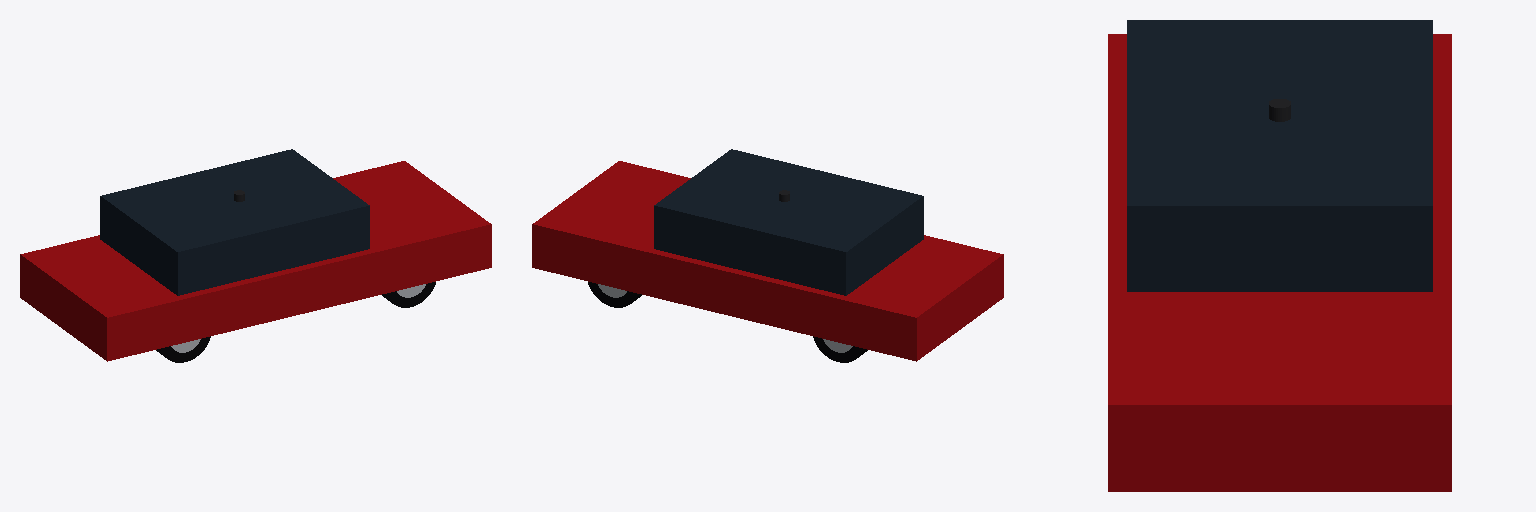
The robot description file, URDF, robot "sedan":
<?xml version="1.0"?>
<!--
  The sample sedan (domains/vehicle_dynamics.md, robot-classes.md): a generic 1.5 t rear-wheel
  drive saloon, 4.6 m long, wheelbase 2.7 m, track 1.56 m, 205/55 R16 tyres. Primitives only.
  The wheels carry no collision shapes: vehicle dynamics finds the ground under them by rays and
  models suspension and tyres itself (sedan.usda adds VehicleAPI_1 and WheelAPI_1). base_link's
  origin is at the wheel centres' height, between the axles. Values are illustrative, not a
  real product.
-->
<robot name="sedan">
  <material name="paint"><color rgba="0.62 0.07 0.09 1"/></material>
  <material name="glass"><color rgba="0.12 0.16 0.2 1"/></material>
  <material name="tyre"><color rgba="0.06 0.06 0.07 1"/></material>
  <material name="rim"><color rgba="0.7 0.71 0.73 1"/></material>
  <material name="sensor"><color rgba="0.15 0.15 0.16 1"/></material>

  <link name="base_link">
    <inertial>
      <origin xyz="0.1 0 0.1"/>
      <mass value="1400"/>
      <inertia ixx="607" iyy="2591" izz="2740" ixy="0" ixz="0" iyz="0"/>
    </inertial>
    <visual>
      <origin xyz="0 0 0.17"/>
      <geometry><box size="4.6 1.8 0.5"/></geometry>
      <material name="paint"/>
    </visual>
    <visual>
      <origin xyz="-0.25 0 0.67"/>
      <geometry><box size="2.3 1.6 0.5"/></geometry>
      <material name="glass"/>
    </visual>
    <collision>
      <origin xyz="0 0 0.3"/>
      <geometry><box size="4.6 1.8 0.76"/></geometry>
    </collision>
  </link>

  <link name="front_left_knuckle">
    <inertial><mass value="5"/><inertia ixx="0.05" iyy="0.05" izz="0.05" ixy="0" ixz="0" iyz="0"/></inertial>
  </link>
  <joint name="front_left_steer" type="revolute">
    <parent link="base_link"/><child link="front_left_knuckle"/>
    <origin xyz="1.35 0.78 0"/><axis xyz="0 0 1"/>
    <limit lower="-0.65" upper="0.65" effort="2000" velocity="3"/>
  </joint>
  <link name="front_left_wheel">
    <inertial><mass value="15"/><inertia ixx="0.4" iyy="0.75" izz="0.4" ixy="0" ixz="0" iyz="0"/></inertial>
    <visual>
      <origin rpy="1.5707963 0 0"/>
      <geometry><cylinder radius="0.316" length="0.205"/></geometry>
      <material name="tyre"/>
    </visual>
    <visual>
      <origin xyz="0 0.105 0" rpy="1.5707963 0 0"/>
      <geometry><cylinder radius="0.2" length="0.01"/></geometry>
      <material name="rim"/>
    </visual>
  </link>
  <joint name="front_left_spin" type="continuous">
    <parent link="front_left_knuckle"/><child link="front_left_wheel"/>
    <origin xyz="0 0 0"/><axis xyz="0 1 0"/>
  </joint>
  <link name="front_right_knuckle">
    <inertial><mass value="5"/><inertia ixx="0.05" iyy="0.05" izz="0.05" ixy="0" ixz="0" iyz="0"/></inertial>
  </link>
  <joint name="front_right_steer" type="revolute">
    <parent link="base_link"/><child link="front_right_knuckle"/>
    <origin xyz="1.35 -0.78 0"/><axis xyz="0 0 1"/>
    <limit lower="-0.65" upper="0.65" effort="2000" velocity="3"/>
  </joint>
  <link name="front_right_wheel">
    <inertial><mass value="15"/><inertia ixx="0.4" iyy="0.75" izz="0.4" ixy="0" ixz="0" iyz="0"/></inertial>
    <visual>
      <origin rpy="1.5707963 0 0"/>
      <geometry><cylinder radius="0.316" length="0.205"/></geometry>
      <material name="tyre"/>
    </visual>
    <visual>
      <origin xyz="0 -0.105 0" rpy="1.5707963 0 0"/>
      <geometry><cylinder radius="0.2" length="0.01"/></geometry>
      <material name="rim"/>
    </visual>
  </link>
  <joint name="front_right_spin" type="continuous">
    <parent link="front_right_knuckle"/><child link="front_right_wheel"/>
    <origin xyz="0 0 0"/><axis xyz="0 1 0"/>
  </joint>
  <link name="rear_left_wheel">
    <inertial><mass value="15"/><inertia ixx="0.4" iyy="0.75" izz="0.4" ixy="0" ixz="0" iyz="0"/></inertial>
    <visual>
      <origin rpy="1.5707963 0 0"/>
      <geometry><cylinder radius="0.316" length="0.205"/></geometry>
      <material name="tyre"/>
    </visual>
    <visual>
      <origin xyz="0 0.105 0" rpy="1.5707963 0 0"/>
      <geometry><cylinder radius="0.2" length="0.01"/></geometry>
      <material name="rim"/>
    </visual>
  </link>
  <joint name="rear_left_spin" type="continuous">
    <parent link="base_link"/><child link="rear_left_wheel"/>
    <origin xyz="-1.35 0.78 0"/><axis xyz="0 1 0"/>
  </joint>
  <link name="rear_right_wheel">
    <inertial><mass value="15"/><inertia ixx="0.4" iyy="0.75" izz="0.4" ixy="0" ixz="0" iyz="0"/></inertial>
    <visual>
      <origin rpy="1.5707963 0 0"/>
      <geometry><cylinder radius="0.316" length="0.205"/></geometry>
      <material name="tyre"/>
    </visual>
    <visual>
      <origin xyz="0 -0.105 0" rpy="1.5707963 0 0"/>
      <geometry><cylinder radius="0.2" length="0.01"/></geometry>
      <material name="rim"/>
    </visual>
  </link>
  <joint name="rear_right_spin" type="continuous">
    <parent link="base_link"/><child link="rear_right_wheel"/>
    <origin xyz="-1.35 -0.78 0"/><axis xyz="0 1 0"/>
  </joint>

  <!-- Sensors: a 32-ring 3D lidar on the roof, a forward camera behind the windscreen, an IMU. -->
  <link name="lidar_link">
    <inertial><mass value="1"/><inertia ixx="0.01" iyy="0.01" izz="0.01" ixy="0" ixz="0" iyz="0"/></inertial>
    <visual>
      <geometry><cylinder radius="0.06" length="0.08"/></geometry>
      <material name="sensor"/>
    </visual>
  </link>
  <joint name="lidar_mount" type="fixed">
    <parent link="base_link"/><child link="lidar_link"/>
    <origin xyz="-0.2 0 0.96"/>
  </joint>
  <link name="camera_link">
    <inertial><mass value="0.2"/><inertia ixx="0.001" iyy="0.001" izz="0.001" ixy="0" ixz="0" iyz="0"/></inertial>
  </link>
  <joint name="camera_mount" type="fixed">
    <parent link="base_link"/><child link="camera_link"/>
    <origin xyz="0.95 0 0.85"/>
  </joint>
  <gazebo reference="lidar_link">
    <sensor name="roof_lidar" type="gpu_lidar">
      <update_rate>10</update_rate>
      <lidar>
        <scan>
          <horizontal><samples>1024</samples><min_angle>-3.14159</min_angle><max_angle>3.14159</max_angle></horizontal>
          <vertical><samples>32</samples><min_angle>-0.4363</min_angle><max_angle>0.2618</max_angle></vertical>
        </scan>
        <range><min>0.5</min><max>100.0</max></range>
        <noise><type>gaussian</type><stddev>0.02</stddev></noise>
      </lidar>
    </sensor>
  </gazebo>
  <gazebo reference="camera_link">
    <sensor name="front_camera" type="camera">
      <update_rate>10</update_rate>
      <camera>
        <horizontal_fov>1.2</horizontal_fov>
        <image><width>960</width><height>540</height></image>
        <clip><near>0.1</near><far>200</far></clip>
      </camera>
    </sensor>
  </gazebo>
  <gazebo reference="base_link">
    <sensor name="imu" type="imu">
      <update_rate>100</update_rate>
      <imu>
        <angular_velocity><z><noise type="gaussian"><stddev>0.002</stddev></noise></z></angular_velocity>
        <linear_acceleration><x><noise type="gaussian"><stddev>0.02</stddev></noise></x></linear_acceleration>
      </imu>
    </sensor>
  </gazebo>

  <!-- Which joints take commands: vehicle dynamics drives the wheels and the steering. -->
  <ros2_control name="LagrangeSystem" type="system">
    <hardware><plugin>lagrange_ros2_control/LagrangeSystem</plugin></hardware>
    <joint name="front_left_steer">
      <command_interface name="effort"/>
      <state_interface name="position"/>
      <state_interface name="velocity"/>
    </joint>
    <joint name="front_right_steer">
      <command_interface name="effort"/>
      <state_interface name="position"/>
      <state_interface name="velocity"/>
    </joint>
    <joint name="front_left_spin">
      <command_interface name="effort"/>
      <state_interface name="position"/>
      <state_interface name="velocity"/>
    </joint>
    <joint name="front_right_spin">
      <command_interface name="effort"/>
      <state_interface name="position"/>
      <state_interface name="velocity"/>
    </joint>
    <joint name="rear_left_spin">
      <command_interface name="effort"/>
      <state_interface name="position"/>
      <state_interface name="velocity"/>
    </joint>
    <joint name="rear_right_spin">
      <command_interface name="effort"/>
      <state_interface name="position"/>
      <state_interface name="velocity"/>
    </joint>
  </ros2_control>
</robot>

--- Render facts (derived) ---
Views: 3 orthographic renders of the robot side by side, from view 1: azimuth 30°, elevation 25°; view 2: azimuth 150°, elevation 25°; view 3: azimuth 270°, elevation 25°.
Model sedan with 9 links and 8 joints (2 revolute, 4 continuous, 2 fixed), rooted at base_link, posed all joints at 0.
Visible links, largest first — view 1: base_link, rear_right_wheel, front_right_wheel; view 2: base_link, rear_left_wheel, front_left_wheel; view 3: base_link.
Link boxes in pixels (bbox=[...]): base_link: bbox=[20, 149, 491, 361]; rear_right_wheel: bbox=[156, 336, 210, 362]; front_right_wheel: bbox=[382, 282, 435, 307]; base_link: bbox=[532, 149, 1003, 361]; rear_left_wheel: bbox=[813, 336, 867, 362]; front_left_wheel: bbox=[588, 282, 641, 307]; base_link: bbox=[1108, 20, 1451, 491].
Size in the robot's own frame: 4.6 by 1.8 by 1.32 metres.
Geometry: primitives only (box / cylinder / sphere), no mesh files.
